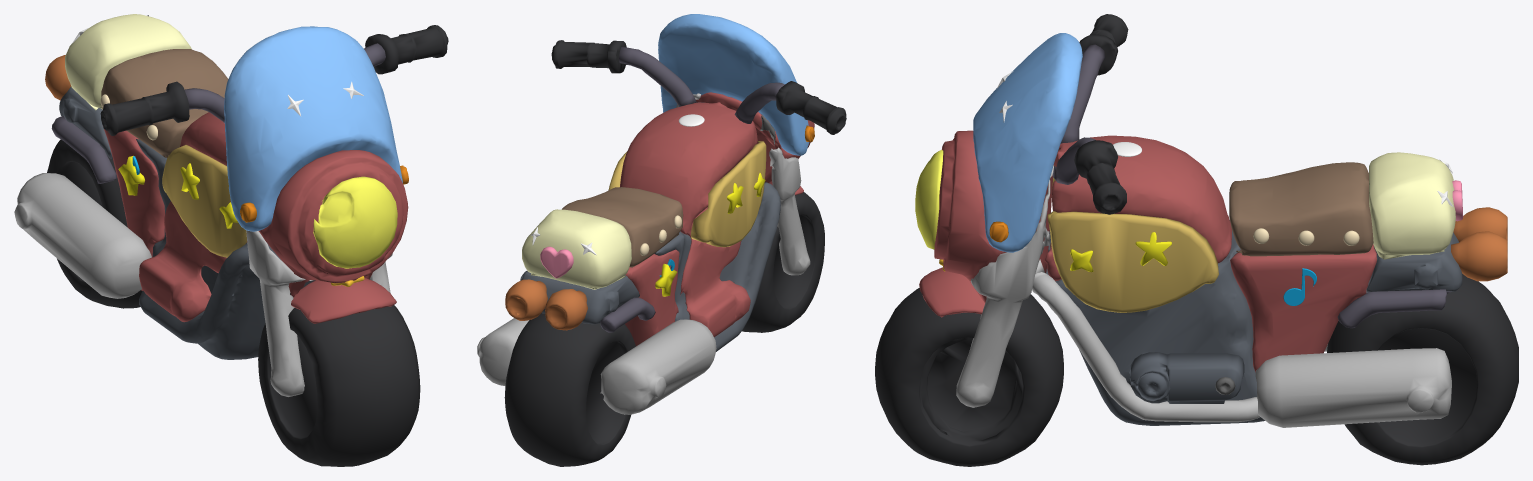
The model's file is StylizedMotorcycle3dModel2.fbx.
The picture shows the model from 3 angles, left to right: view 1: azimuth 30°, elevation 25°; view 2: azimuth 150°, elevation 25°; view 3: azimuth 270°, elevation 25°; orthographic projection. The views are drawn at different scales.
Visible parts, largest first — view 1: M_StylizedMotorcycle3dModel2, S_StylizedMotorcycle3dModel2, D_StylizedMotorcycle3dModel2_1; view 2: M_StylizedMotorcycle3dModel2, S_StylizedMotorcycle3dModel2, D_StylizedMotorcycle3dModel2_2, D_StylizedMotorcycle3dModel2_1; view 3: M_StylizedMotorcycle3dModel2, S_StylizedMotorcycle3dModel2.
Part boxes in pixels (bbox=[...]): M_StylizedMotorcycle3dModel2: bbox=[14, 14, 448, 466]; S_StylizedMotorcycle3dModel2: bbox=[162, 145, 392, 396]; D_StylizedMotorcycle3dModel2_1: bbox=[118, 155, 144, 195]; M_StylizedMotorcycle3dModel2: bbox=[477, 14, 846, 466]; S_StylizedMotorcycle3dModel2: bbox=[608, 93, 810, 275]; D_StylizedMotorcycle3dModel2_2: bbox=[540, 246, 573, 278]; D_StylizedMotorcycle3dModel2_1: bbox=[655, 263, 677, 296]; M_StylizedMotorcycle3dModel2: bbox=[875, 14, 1518, 466]; S_StylizedMotorcycle3dModel2: bbox=[956, 165, 1259, 422].
Bounding box in the file's own units: 525 × 579 × 820.
